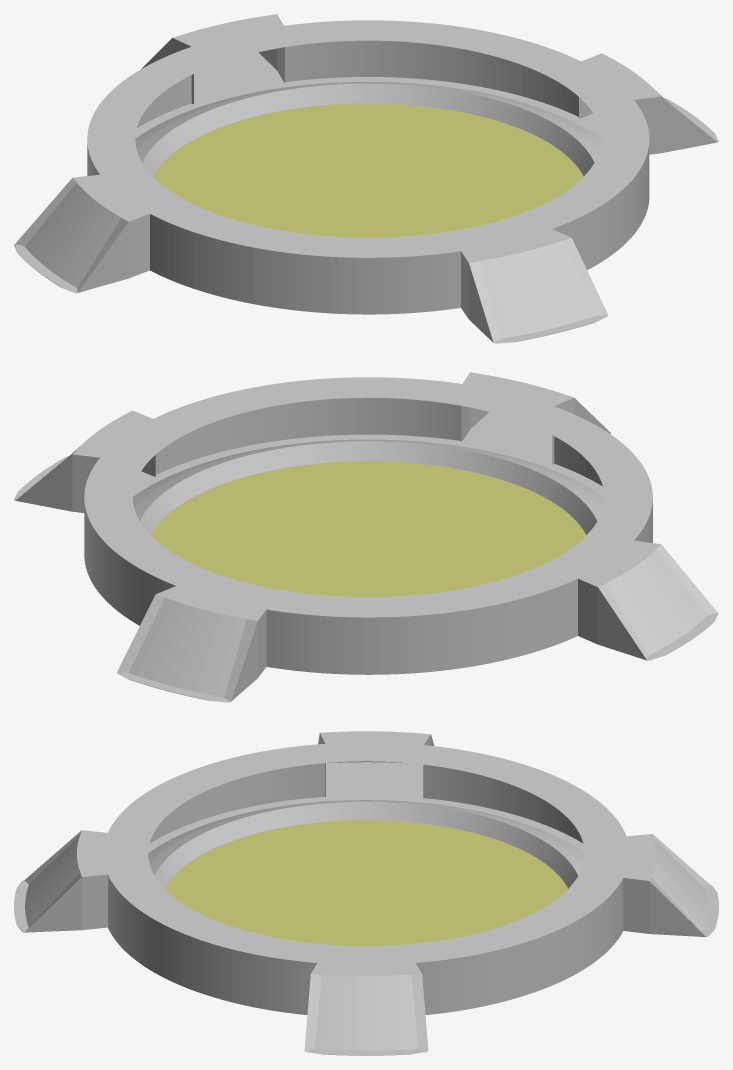
The model's file is SoawnerV2.dae.
The picture shows the model from 3 angles, top to bottom: view 1: azimuth 30°, elevation 25°; view 2: azimuth 150°, elevation 25°; view 3: azimuth 270°, elevation 25°; orthographic projection. The views are drawn at different scales.
Visible parts, largest first — view 1: Cube.013 (×2); view 2: Cube.013 (×2); view 3: Cube.013 (×2).
Boxes of the visible parts, box(x1,y1,x2,y2) form: Cube.013 (×2): box(14, 14, 718, 343); Cube.013 (×2): box(14, 372, 718, 702); Cube.013 (×2): box(14, 731, 718, 1055).
Size of the model in its own units: 1.37 by 0.1153 by 1.37.
